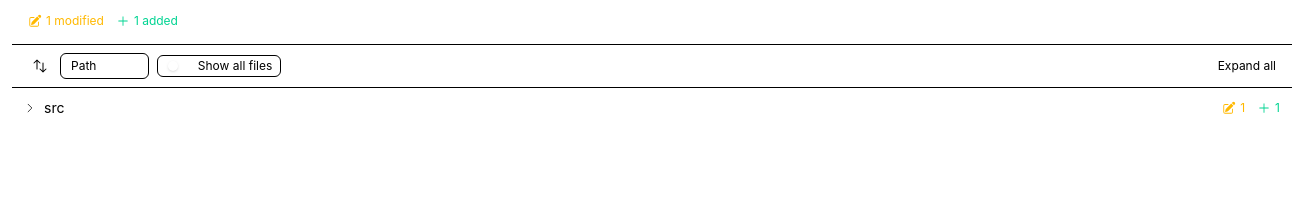
Test: CommitFileList › expands folders in tree view and opens folder context menu
Click the button "Tree" at [125, 66], box [104,56,146,76]
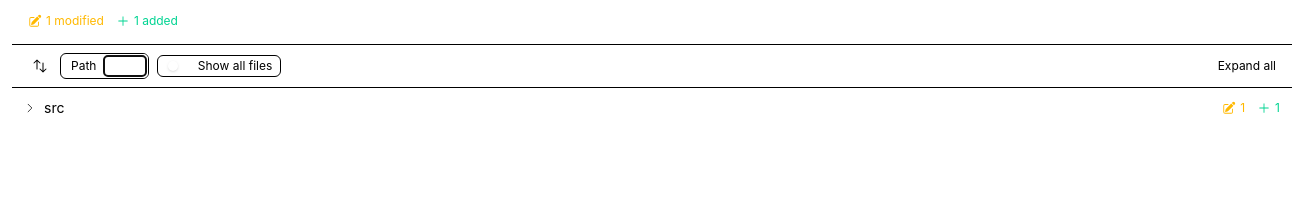
Click the button "Expand all" at [1247, 66], box [1218,58,1276,74]
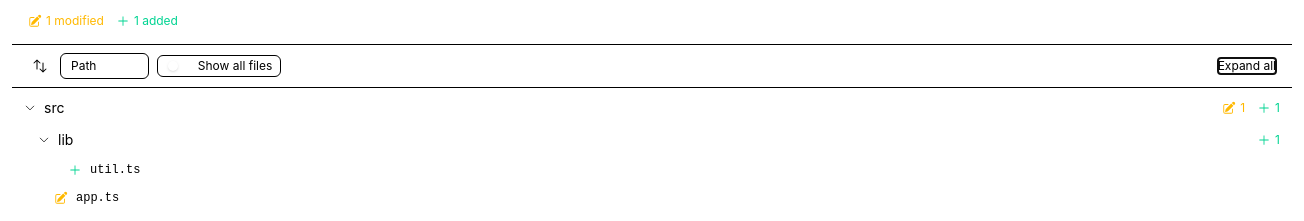
Expected: the text "util.ts" is shown, [90,162,140,178]
Right-click the text "src" at [54, 108], box [44,99,64,116]
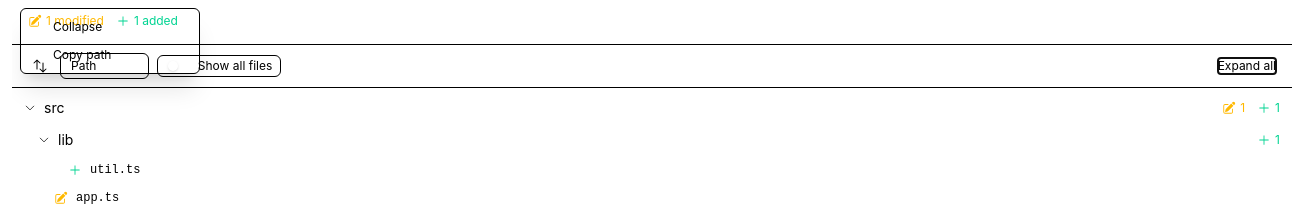
Expected: the menu is shown, [20,8,200,74]
